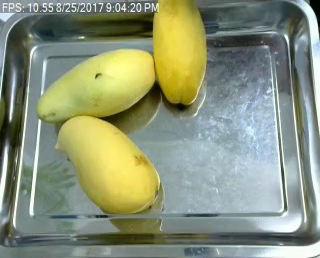Mango: (58, 116, 161, 212), (36, 47, 157, 123), (149, 0, 207, 109)
